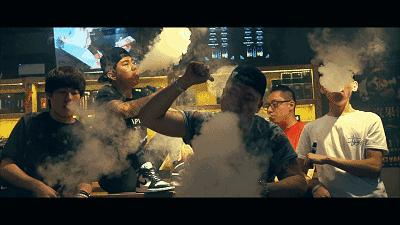smoking: (202, 70, 219, 85), (309, 141, 319, 166), (57, 182, 69, 198)
